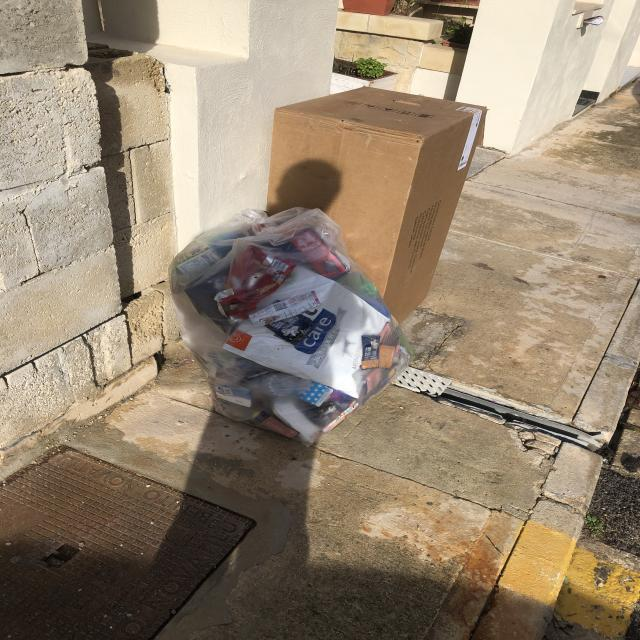Organic Waste -White Bag-: (176, 214, 410, 448)
